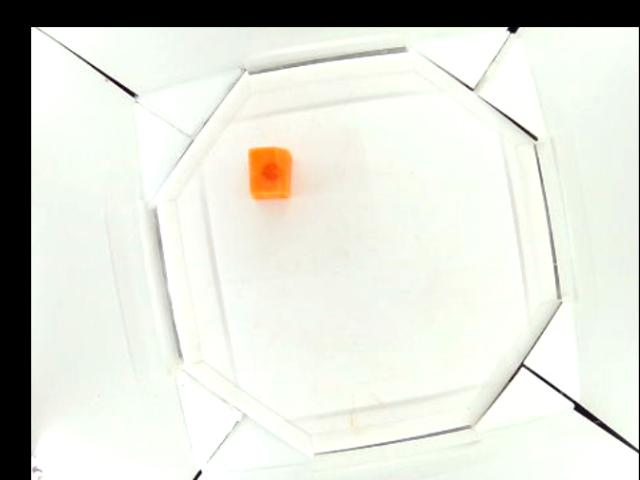Carrot: (247, 145, 295, 200)
